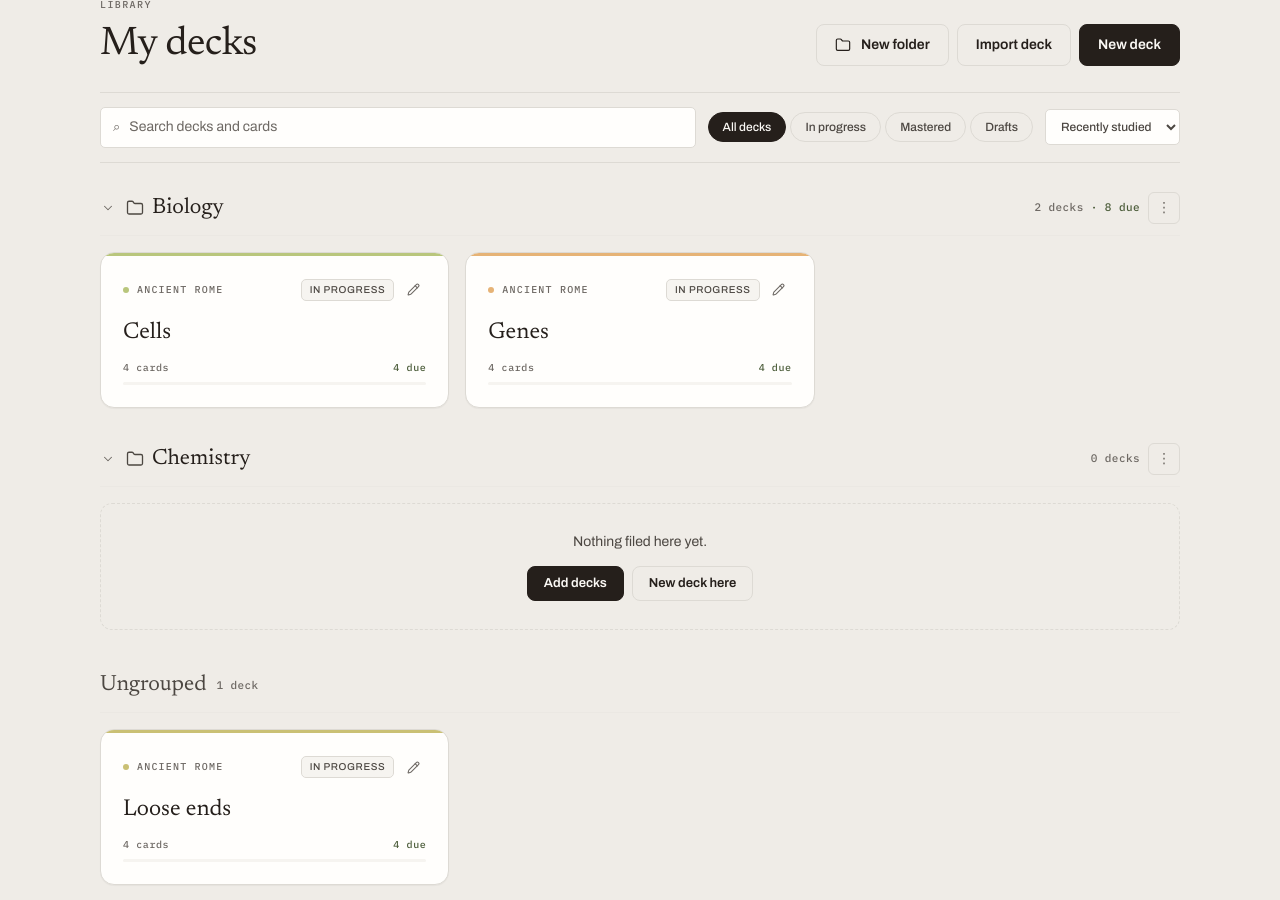
creating a folder › refuses a name that is already taken
The width and height of the screenshot is (1280, 900).
Click the button "New folder": {"x": 882, "y": 45} [816,24,949,66]
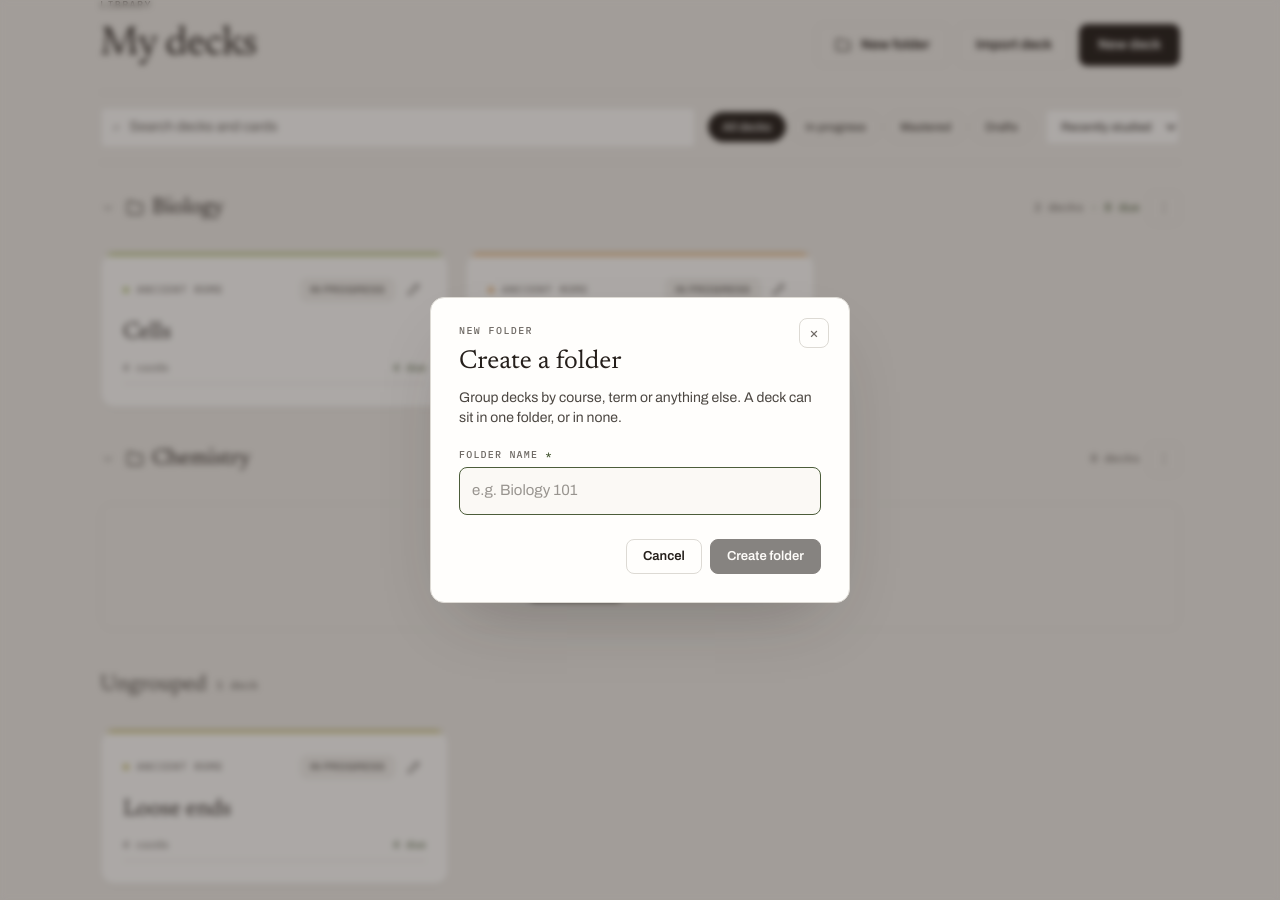
In the field labelled "Folder name *": {"x": 640, "y": 491} [459,467,821,515], type "biology"
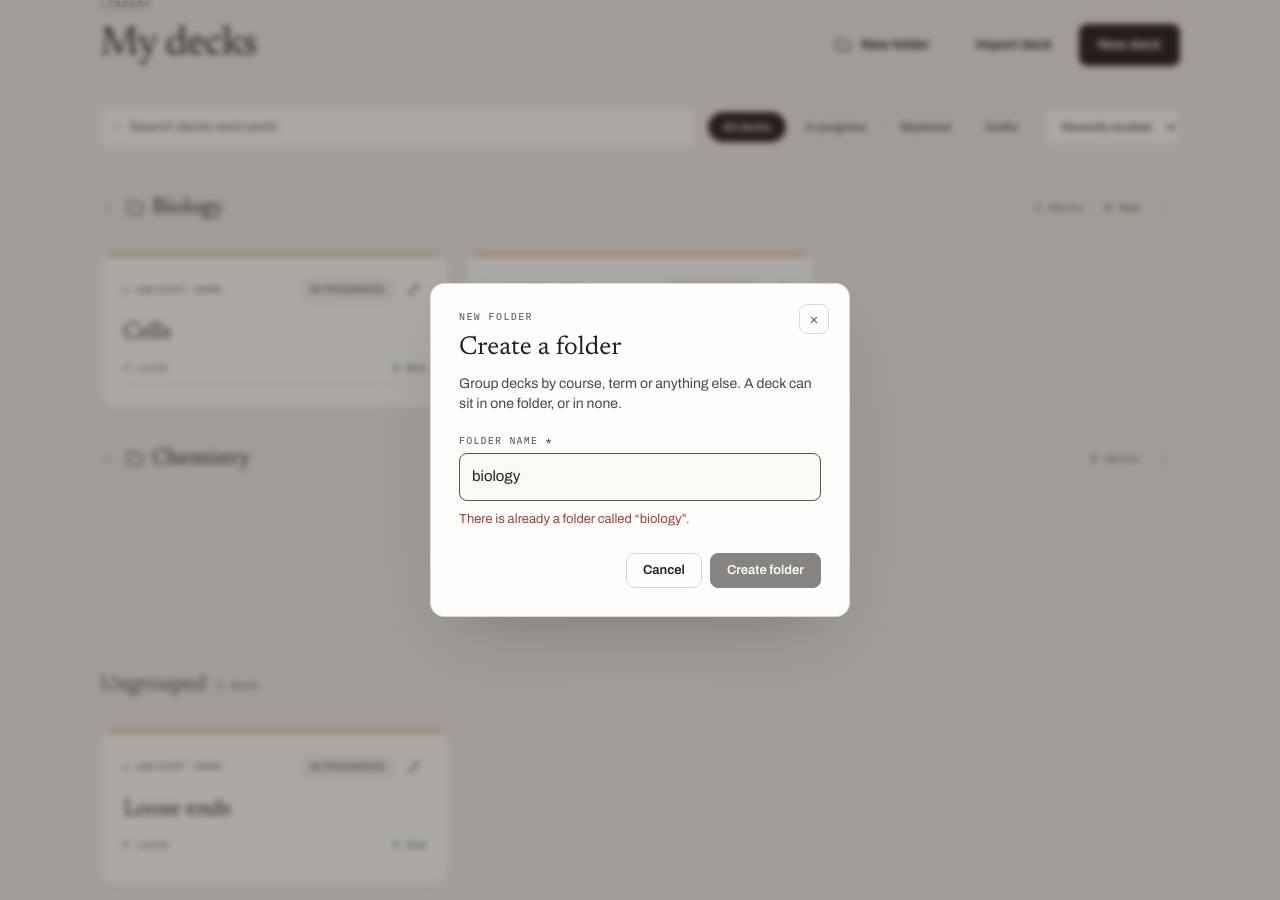
Check: the button "Create folder" is disabled, box [710,553,821,588]
Check: the text "There is already a folder called “biology”." is shown, box [459,512,690,526]
